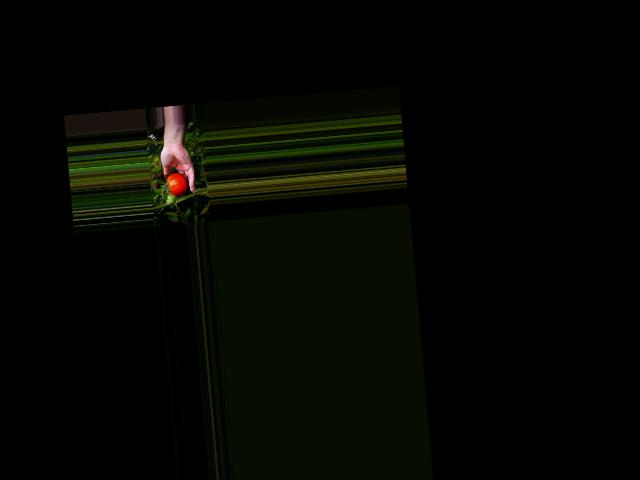tomato: (166, 171, 188, 197)
